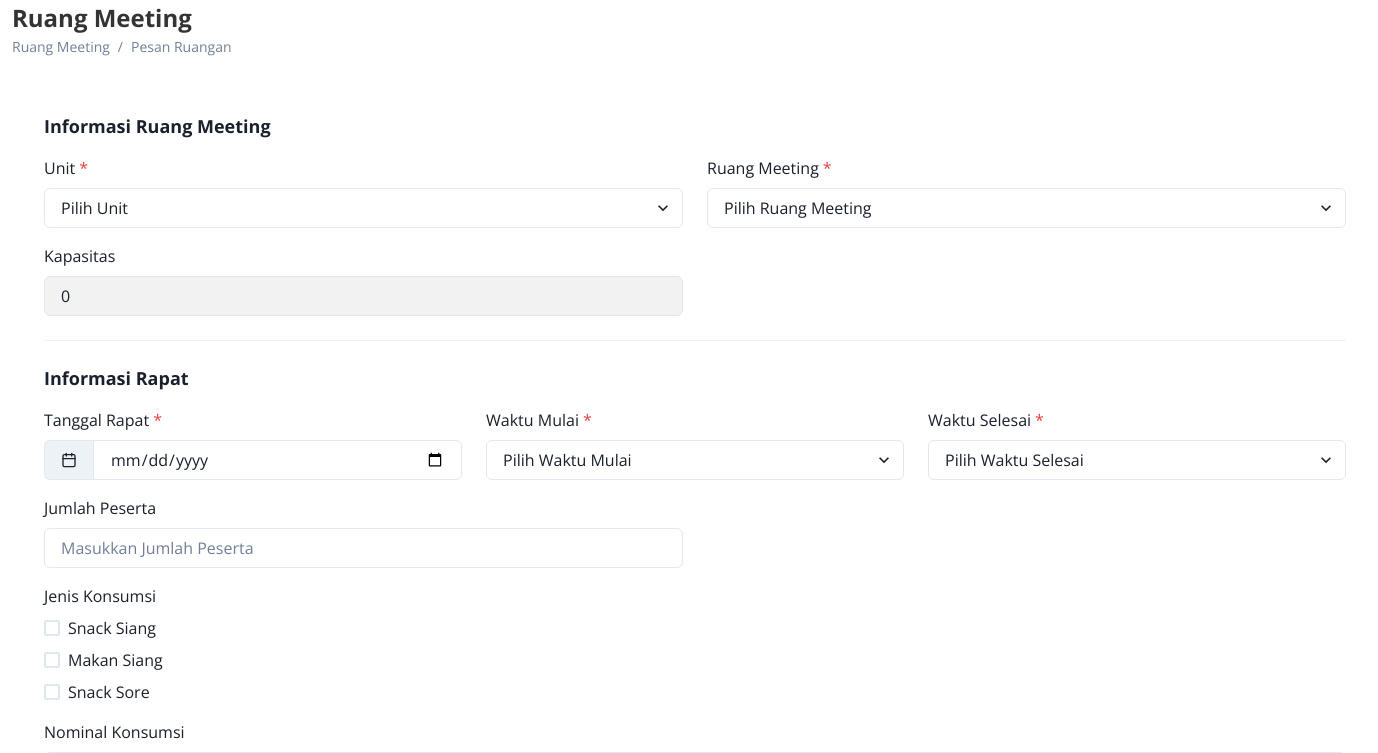
Scenario: BookMeeting Component › should calculate total price correctly
The image size is (1378, 753).
Note: Fill form
Select "UID BALI" in the dropdown with test id "unit-select" at (364, 208), box [44,188,683,228]
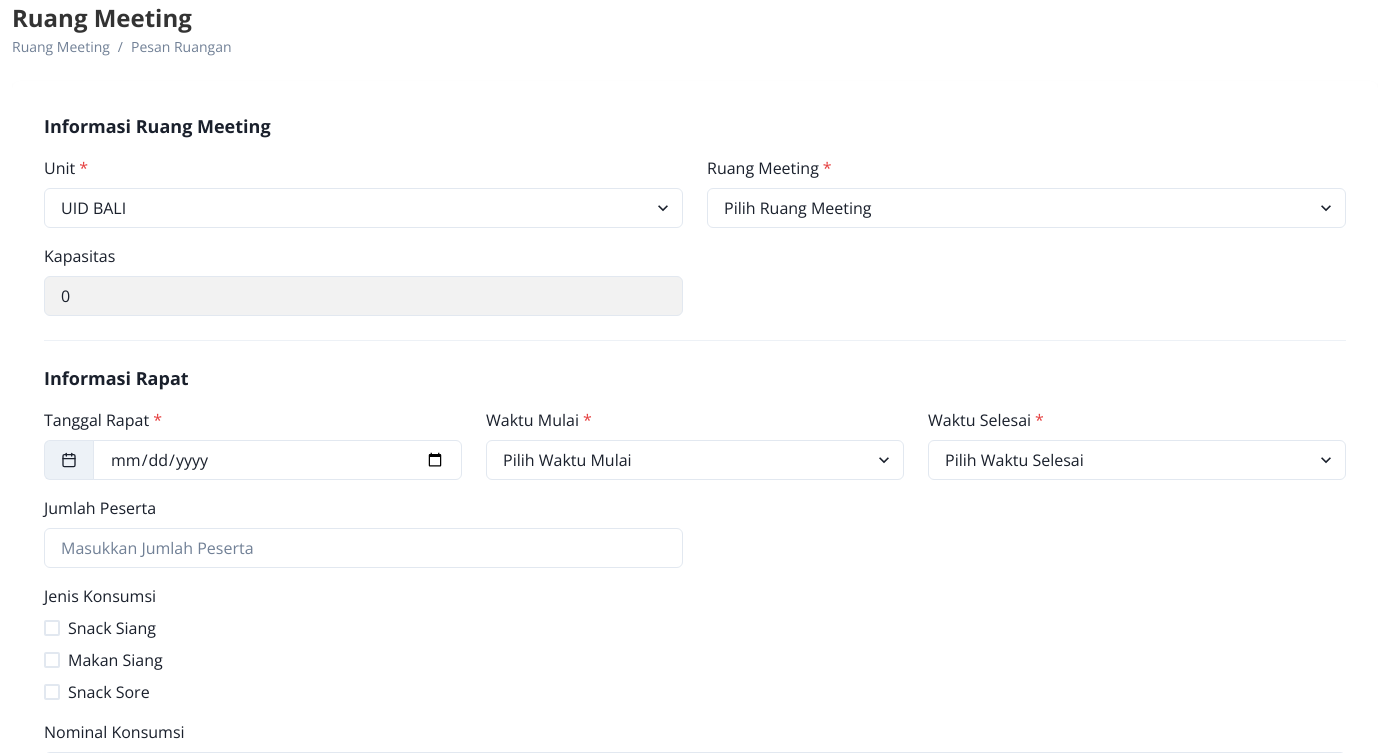
Select "Ruang Ganesha" in the dropdown labelled "Ruang Meeting*" at (1026, 208), box [707,188,1346,228]
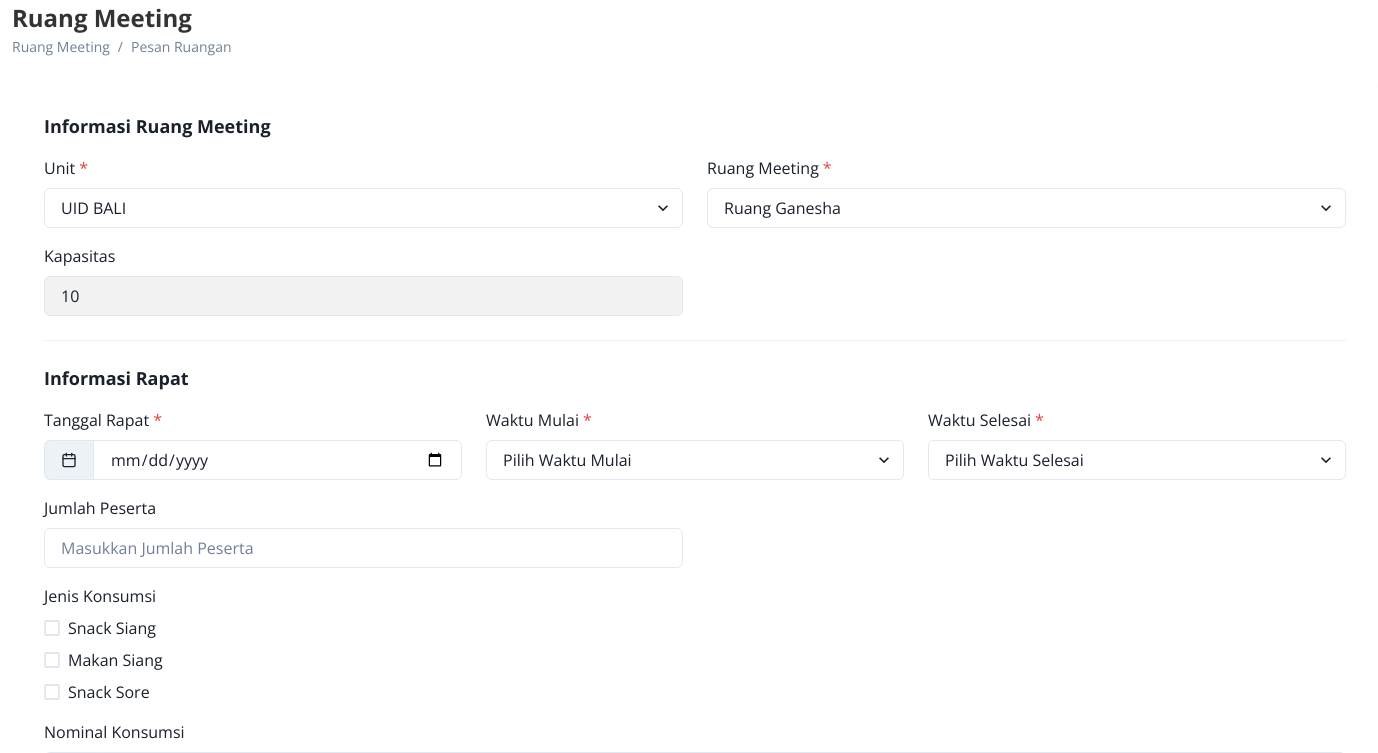
Type "5" into the field labelled "Jumlah Peserta".
click(364, 548); type("5")  # box [44,528,683,568]
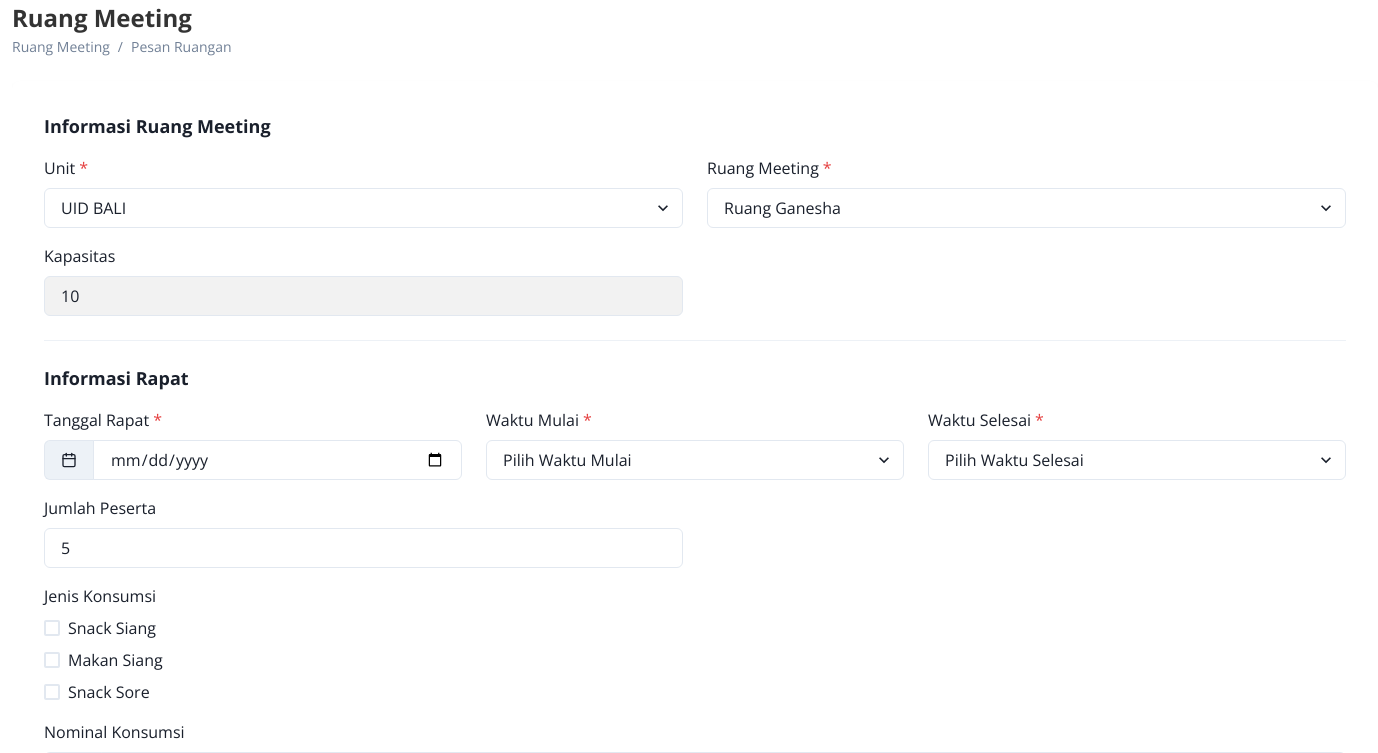
Note: Select meals
Click the checkbox named "Snack Siang".
click(100, 596)  # box [44,585,156,607]
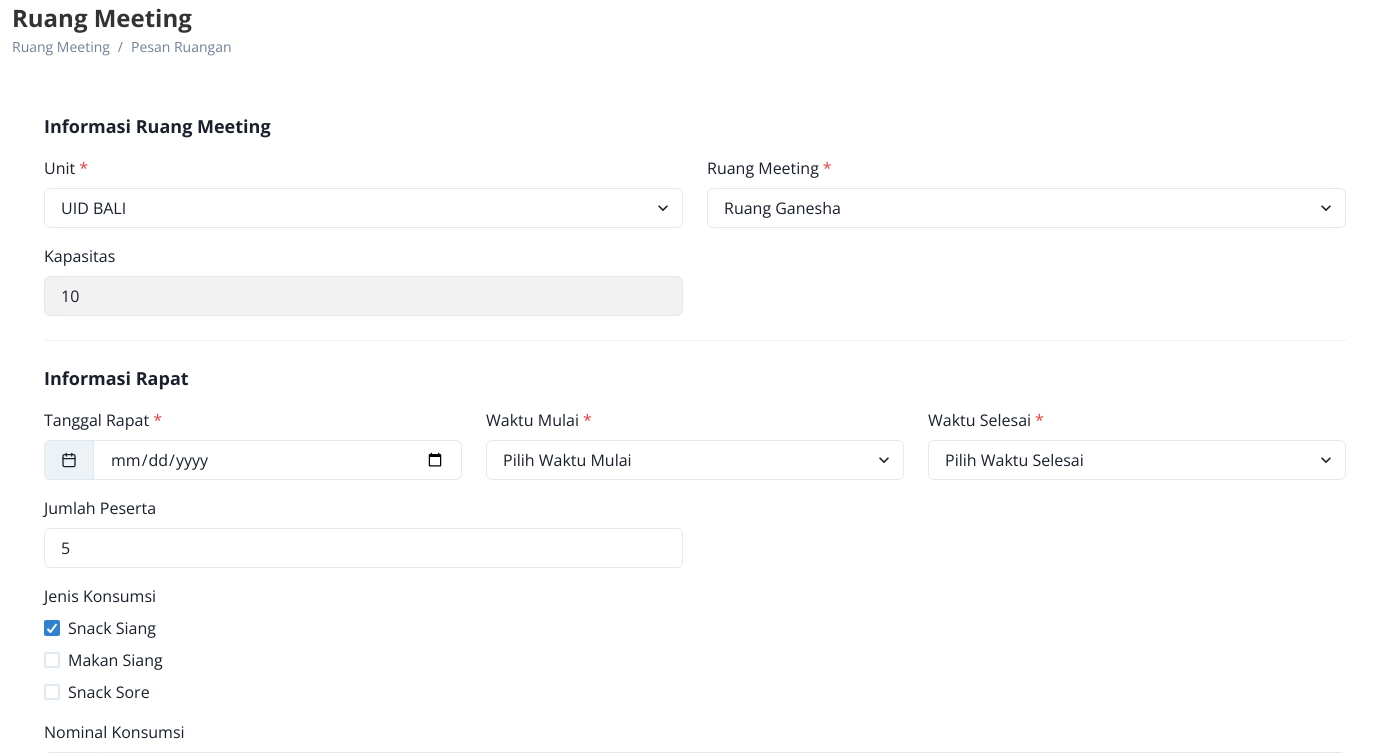
Click the checkbox labelled "Makan Siang".
click(103, 660)  # box [44,649,163,671]
(page scrolled)
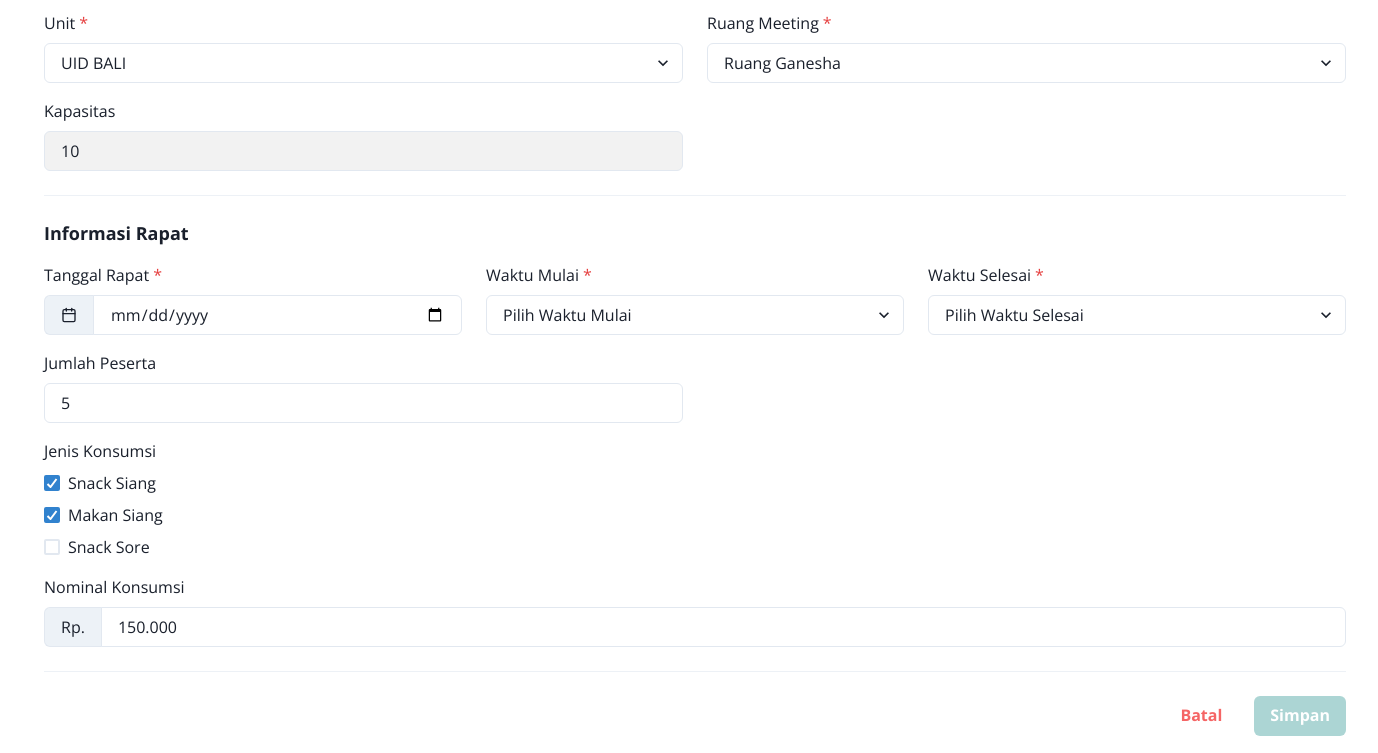
Check: the field labelled "Nominal Konsumsi" holds "150.000", box [101,607,1346,647]
